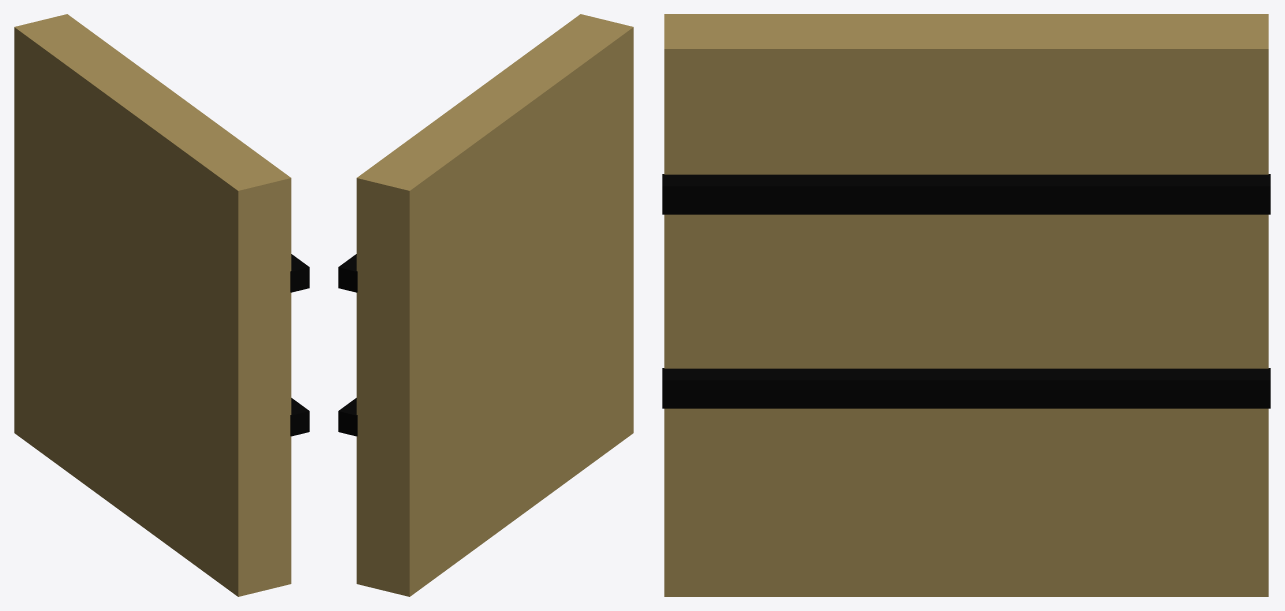
File: Wall.fbx
The picture shows the model from 3 angles, left to right: view 1: azimuth 30°, elevation 25°; view 2: azimuth 150°, elevation 25°; view 3: azimuth 270°, elevation 25°; orthographic projection. The views are drawn at different scales.
Parts seen in each view (by area): view 1: Cube.003; view 2: Cube.003; view 3: Cube.003.
Boxes of the visible parts, x1,y1,x2,y2 form: Cube.003: [14, 14, 309, 596]; Cube.003: [338, 14, 633, 596]; Cube.003: [662, 14, 1270, 596].
Size of the model in its own units: 219 by 1199 by 1206.
Materials: 1 (1 with a texture image).
